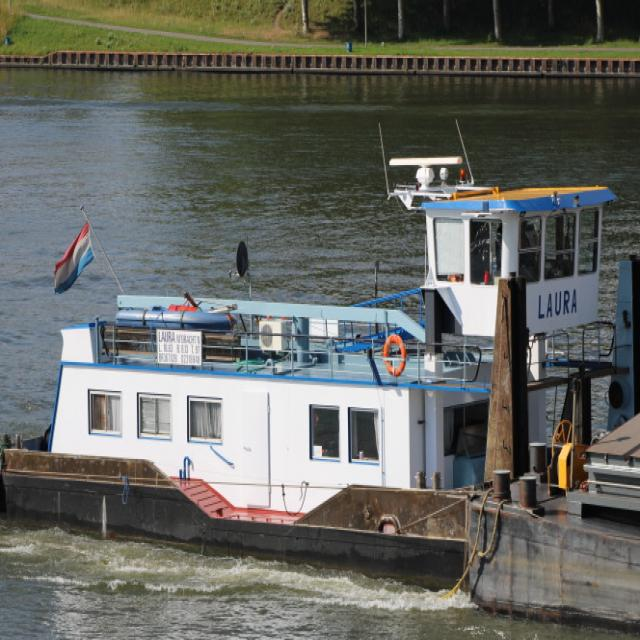tugboat: (1, 117, 640, 609)
